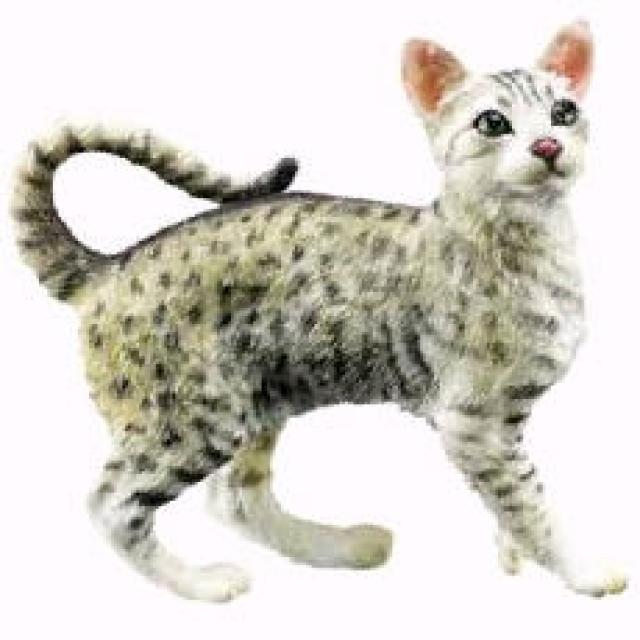Egyptian_Mau: (394, 13, 606, 201)
